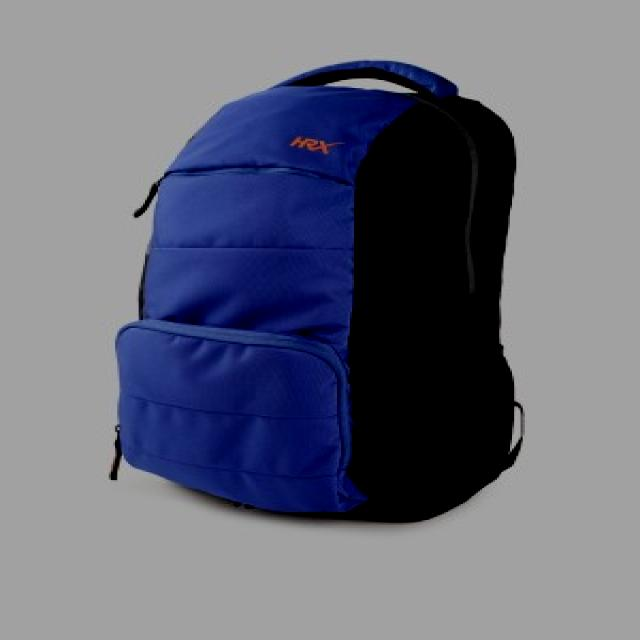backpack: (108, 59, 526, 523)
